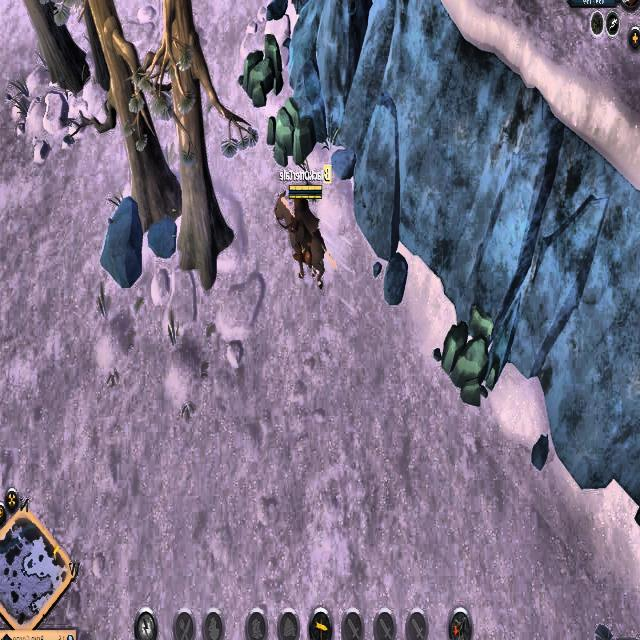sandstone: (439, 302, 502, 411), (264, 94, 316, 167), (240, 26, 286, 106)
